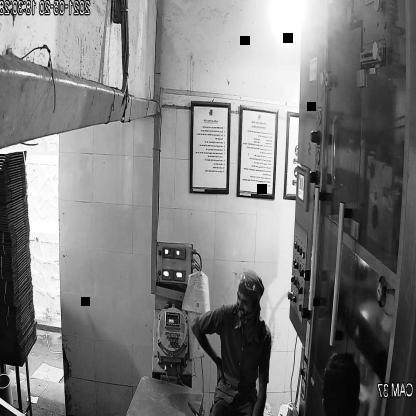no_goggles: (234, 293, 258, 311)
